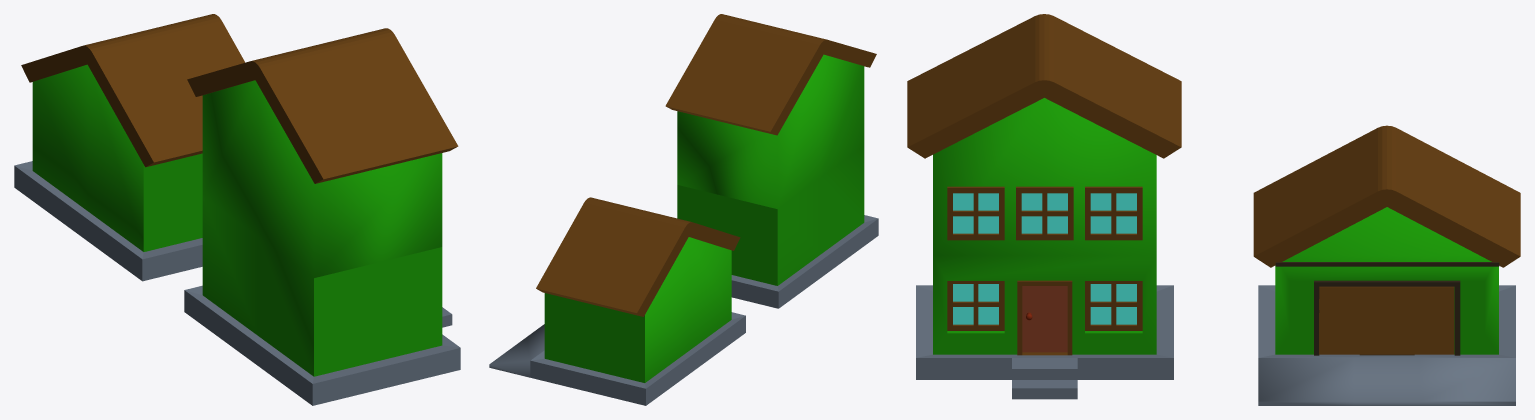
The model's file is SOUTHPARK2.fbx.
3 views of the same model, side by side, from view 1: azimuth 30°, elevation 25°; view 2: azimuth 150°, elevation 25°; view 3: azimuth 270°, elevation 25° (orthographic). The views are drawn at different scales.
Parts seen in each view (by area): view 1: Main House.003, Roof.003, Main House.002, Roof.002, Base.003, Base.002; view 2: Main House.003, Main House.002, Roof.003, Roof.002, Base.002, Base.003; view 3: Main House.003, Roof.003, Roof.002, Base.002, Main House.002, Cube.002, Base.003, Window Frame.004, Window Frame.005, Glass.004, Glass.005, Door In.001 (+6 smaller).
Boxes of the visible parts, left/top/right/bottom form: Main House.003: left=202, top=80, right=442, bottom=376; Roof.003: left=187, top=28, right=458, bottom=183; Main House.002: left=32, top=64, right=202, bottom=251; Roof.002: left=21, top=14, right=244, bottom=167; Base.003: left=184, top=285, right=460, bottom=405; Base.002: left=14, top=161, right=202, bottom=281; Main House.003: left=677, top=54, right=864, bottom=285; Main House.002: left=544, top=237, right=731, bottom=382; Roof.003: left=665, top=14, right=876, bottom=135; Roof.002: left=536, top=197, right=740, bottom=316; Base.002: left=489, top=312, right=745, bottom=405; Base.003: left=731, top=215, right=878, bottom=308; Main House.003: left=933, top=98, right=1156, bottom=354; Roof.003: left=907, top=14, right=1181, bottom=158; Roof.002: left=1253, top=125, right=1520, bottom=267; Base.002: left=1258, top=285, right=1515, bottom=405; Main House.002: left=1275, top=207, right=1498, bottom=354; Cube.002: left=1319, top=286, right=1454, bottom=354; Base.003: left=916, top=285, right=1173, bottom=379; Window Frame.004: left=947, top=186, right=1142, bottom=240; Window Frame.005: left=947, top=281, right=1142, bottom=330; Glass.004: left=953, top=193, right=1136, bottom=233; Glass.005: left=953, top=284, right=1136, bottom=324; Door In.001: left=1022, top=286, right=1067, bottom=352.
Bounding box in the file's own units: 625 × 878 × 1645.
